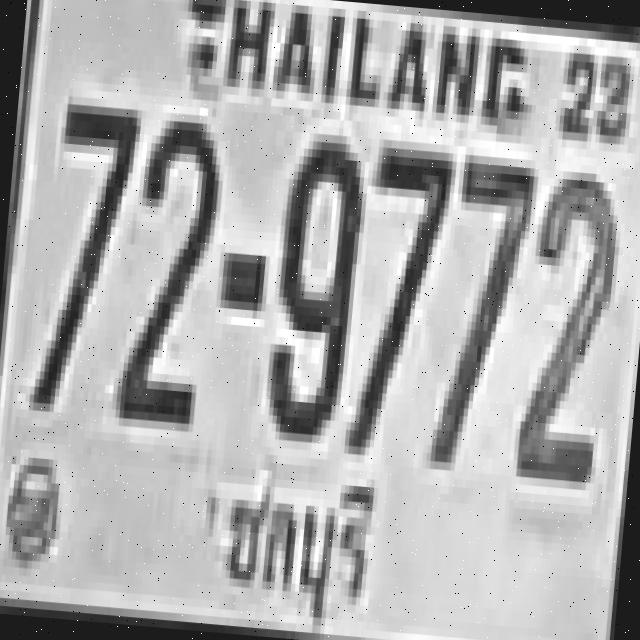2: (512, 164, 621, 478), (115, 106, 220, 420)
7: (426, 145, 536, 468), (29, 94, 138, 408), (344, 138, 450, 452)
9: (262, 127, 363, 440)
Chonburi: (209, 454, 382, 640)
